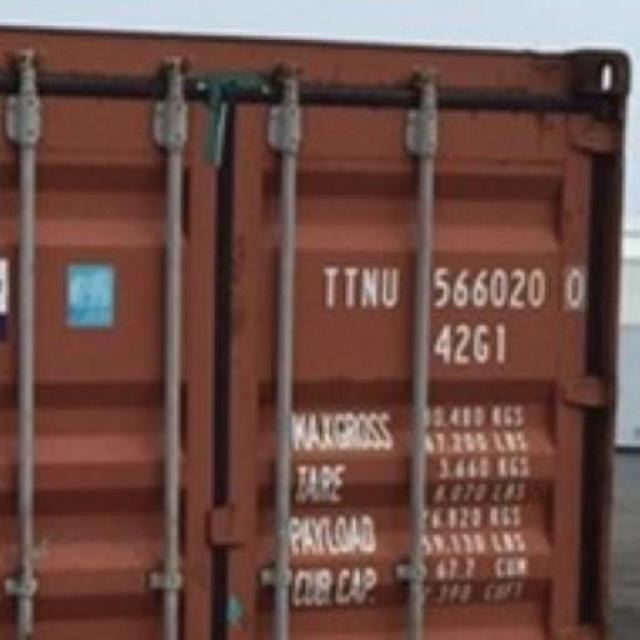ISO: (434, 320, 512, 364)
container_number: (318, 264, 596, 313)
